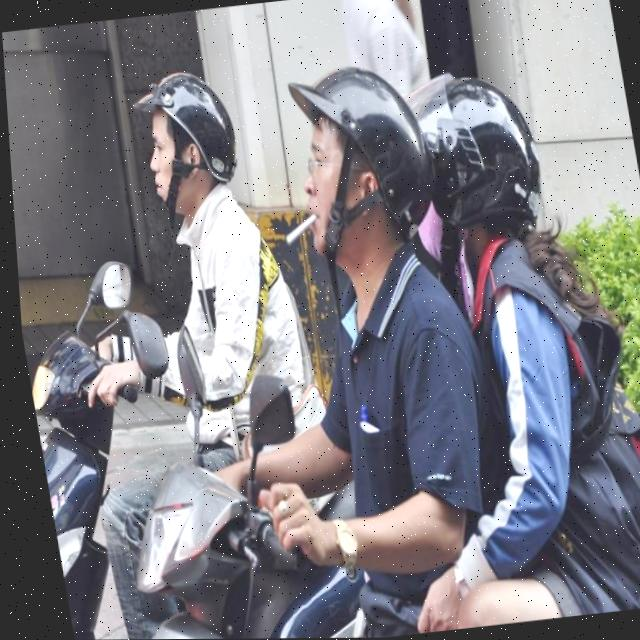motorcycle: (16, 246, 217, 640), (65, 428, 332, 640)
